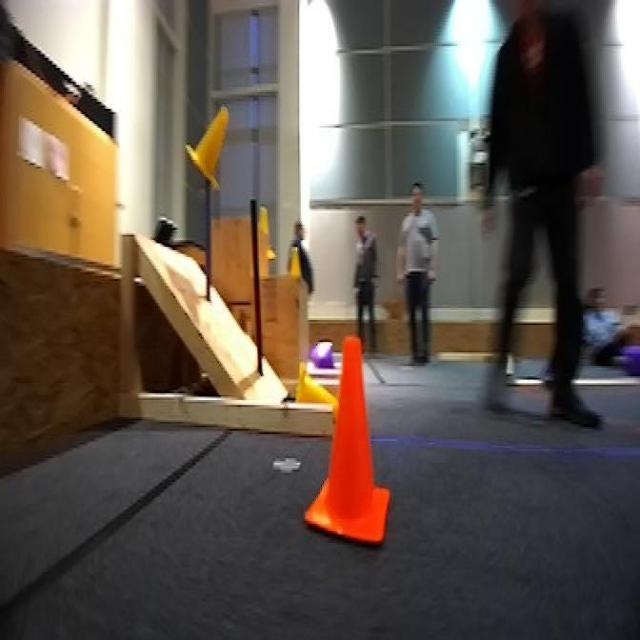frc_cone: (181, 102, 235, 191), (292, 362, 336, 412), (256, 202, 274, 258), (292, 240, 307, 279)
frc_cube: (618, 342, 640, 378), (314, 339, 334, 374)
